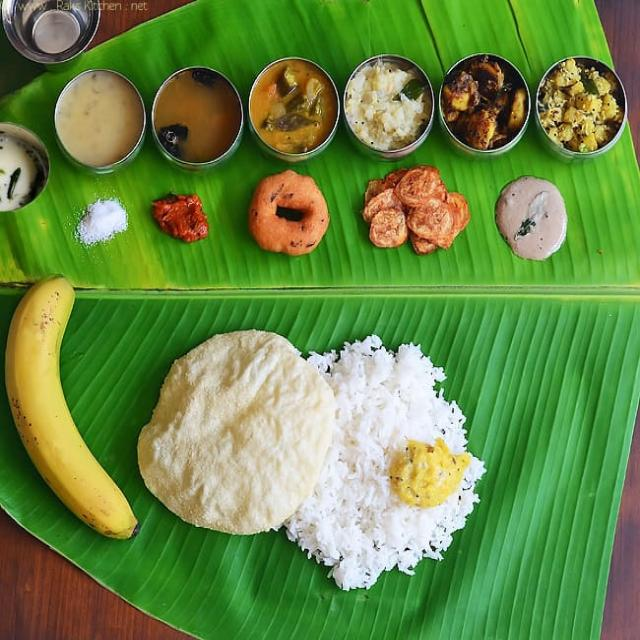veg meals: (0, 43, 640, 609)
